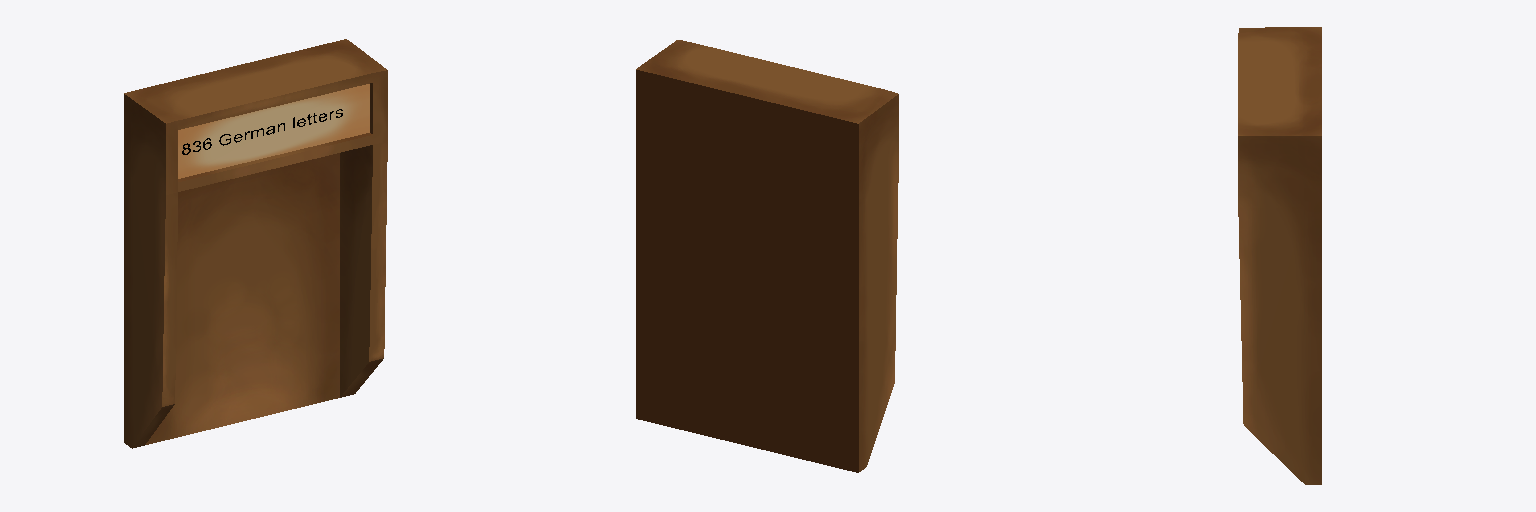
3 renders of one model, left to right at view 1: azimuth 30°, elevation 25°; view 2: azimuth 150°, elevation 25°; view 3: azimuth 270°, elevation 25°, orthographic.
Visible parts, largest first — view 1: holder, holder_label; view 2: holder; view 3: holder.
Boxes of the visible parts, x1=… form: holder: x1=124, y1=39, x2=387, y2=448; holder_label: x1=178, y1=84, x2=369, y2=178; holder: x1=636, y1=40, x2=898, y2=472; holder: x1=1238, y1=27, x2=1321, y2=484.
Bounding box in the file's own units: 7.93 × 11.88 × 2.58.
2 materials, 2 textured.